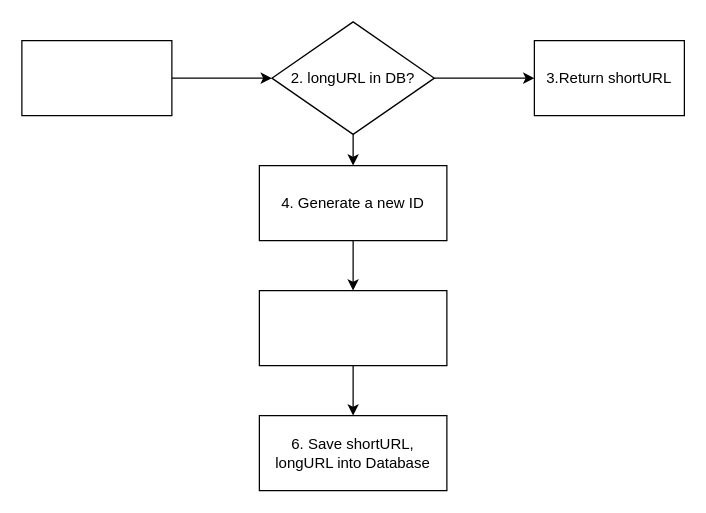
Some shapes in this 706 by 513 pixel diagram are drawn without their labels. Each missing label, with the centre of its shape:
"1.longURL" belongs at point 96,77.
"5. Convert into shortURL" belongs at point 352,327.
